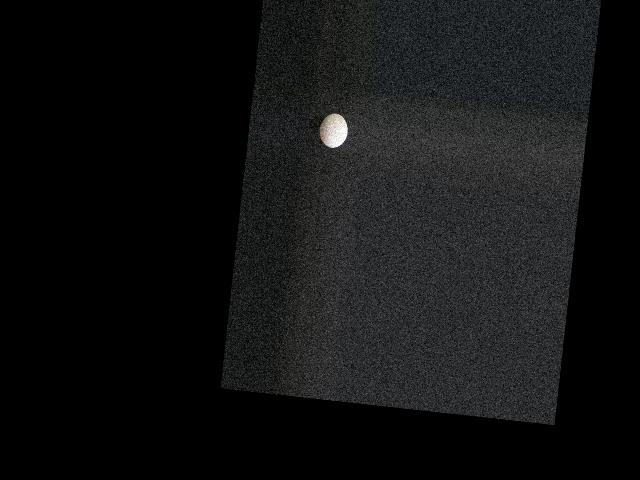egg: (318, 111, 349, 147)
